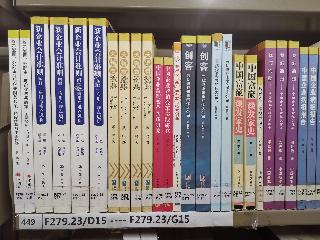book-spine: (29, 16, 53, 214), (67, 17, 90, 213), (49, 19, 71, 213), (87, 19, 109, 213), (7, 29, 26, 214), (18, 31, 36, 213), (208, 32, 225, 211), (181, 36, 198, 212), (195, 35, 211, 213), (272, 40, 288, 211), (261, 41, 277, 210), (285, 41, 301, 210), (130, 33, 143, 213), (220, 32, 233, 212), (107, 32, 119, 213), (244, 56, 258, 211), (296, 47, 309, 210), (141, 33, 152, 213), (307, 47, 319, 211), (152, 56, 164, 214), (162, 56, 174, 214), (234, 55, 246, 211), (120, 34, 130, 213), (172, 42, 182, 211), (255, 77, 266, 209)
